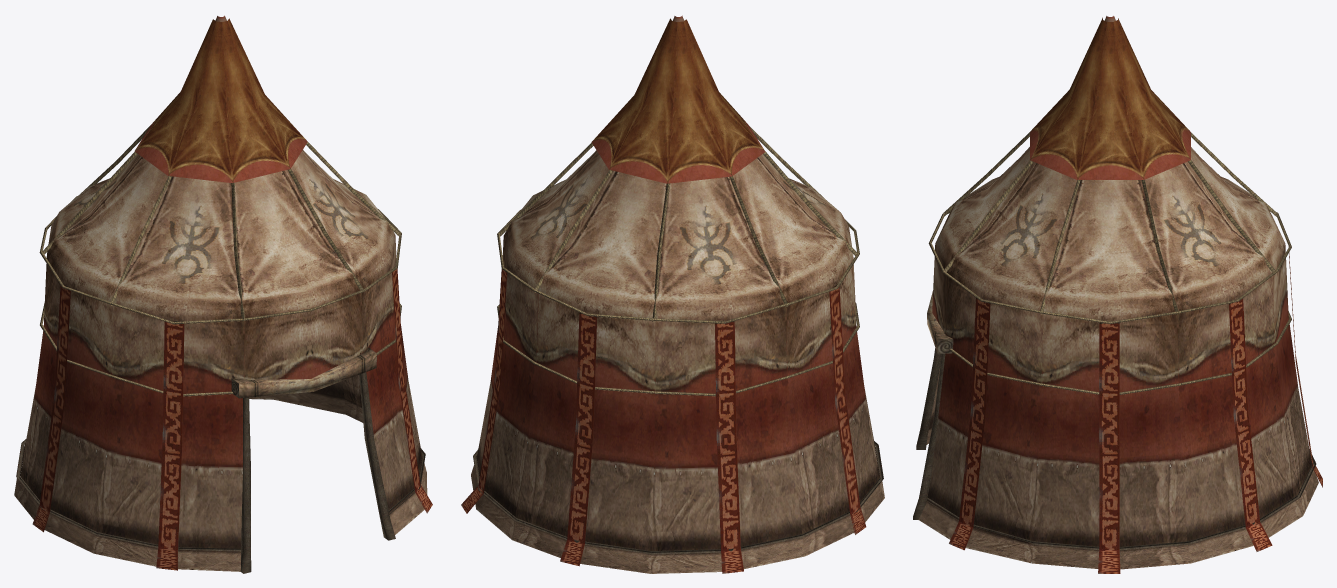
Rendered from triton_tent_02.glb.
3 views of the same model, side by side, from view 1: azimuth 30°, elevation 25°; view 2: azimuth 150°, elevation 25°; view 3: azimuth 270°, elevation 25° (orthographic).
Visible parts, largest first — view 1: Object38; view 2: Object38; view 3: Object38.
Boxes of the visible parts, x1=… form: Object38: x1=14, y1=15, x2=432, y2=573; Object38: x1=461, y1=15, x2=884, y2=573; Object38: x1=913, y1=16, x2=1322, y2=573.
Bounding box in the file's own units: 10.1 × 12.23 × 9.71.
Materials: 1 (1 with a texture image).
